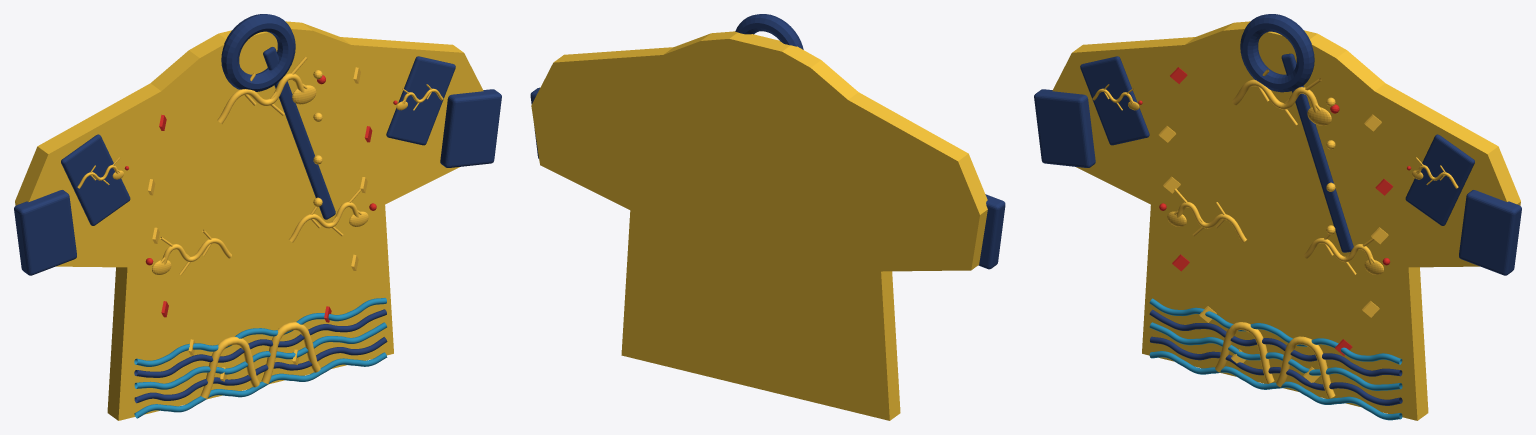
The model's file is dragon-robe.glb.
3 views of the same model, side by side, from view 1: azimuth 30°, elevation 25°; view 2: azimuth 150°, elevation 25°; view 3: azimuth 330°, elevation 25° (orthographic). The views are drawn at different scales.
Visible parts, largest first — view 1: flat mounted dragon robe, horseshoe cuff, horseshoe cuff.001, dark sleeve join.001, dark sleeve join, Torus, right closing diagonal border, sea wave embroidery, sea wave embroidery.003, sea wave embroidery.001, sea wave embroidery.002, sea wave embroidery.004 (+5 smaller); view 2: flat mounted dragon robe, horseshoe cuff, Torus; view 3: flat mounted dragon robe, horseshoe cuff.001, horseshoe cuff, dark sleeve join, dark sleeve join.001, Torus, right closing diagonal border, sea wave embroidery, sea wave embroidery.003, sea wave embroidery.002, sea wave embroidery.001, sea wave embroidery.004 (+5 smaller).
Part boxes in pixels (bbox=[...]): flat mounted dragon robe: bbox=[15, 21, 483, 420]; horseshoe cuff: bbox=[14, 190, 76, 275]; horseshoe cuff.001: bbox=[440, 89, 501, 167]; dark sleeve join.001: bbox=[386, 56, 455, 145]; dark sleeve join: bbox=[61, 134, 130, 225]; Torus: bbox=[221, 14, 295, 91]; right closing diagonal border: bbox=[263, 47, 335, 219]; sea wave embroidery: bbox=[134, 352, 387, 418]; sea wave embroidery.003: bbox=[134, 309, 386, 377]; sea wave embroidery.001: bbox=[134, 337, 387, 403]; sea wave embroidery.002: bbox=[134, 322, 386, 389]; sea wave embroidery.004: bbox=[134, 298, 386, 366]; flat mounted dragon robe: bbox=[531, 31, 987, 420]; horseshoe cuff: bbox=[978, 194, 1005, 269]; Torus: bbox=[735, 14, 803, 49]; flat mounted dragon robe: bbox=[1052, 21, 1520, 420]; horseshoe cuff.001: bbox=[1459, 190, 1521, 275]; horseshoe cuff: bbox=[1034, 89, 1095, 167]; dark sleeve join: bbox=[1080, 56, 1149, 145]; dark sleeve join.001: bbox=[1405, 134, 1474, 225]; Torus: bbox=[1240, 14, 1314, 92]; right closing diagonal border: bbox=[1281, 53, 1353, 252]; sea wave embroidery: bbox=[1149, 351, 1402, 420]; sea wave embroidery.003: bbox=[1149, 309, 1402, 376]; sea wave embroidery.002: bbox=[1149, 322, 1402, 390]; sea wave embroidery.001: bbox=[1150, 336, 1402, 405]; sea wave embroidery.004: bbox=[1149, 298, 1402, 364].
Bounding box in the file's own units: 2.13 × 1.59 × 0.142.
